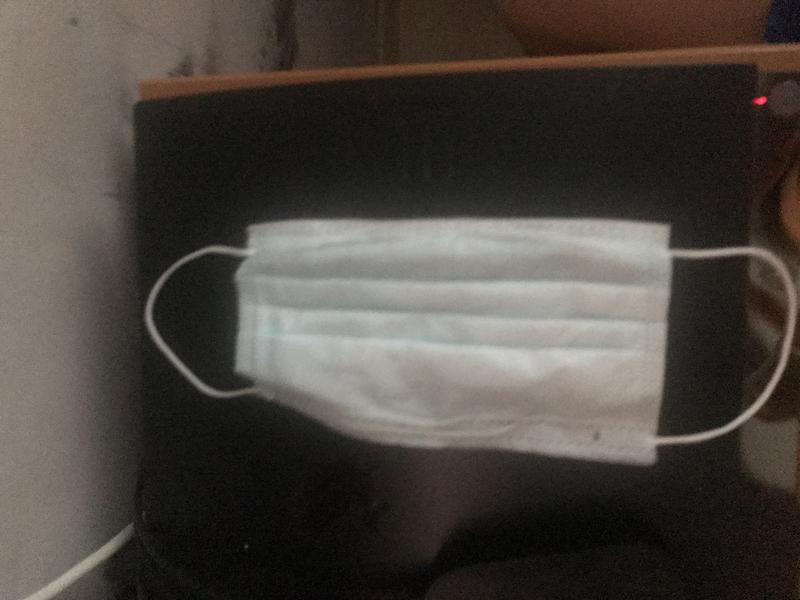medical_mask: (148, 218, 797, 469)
